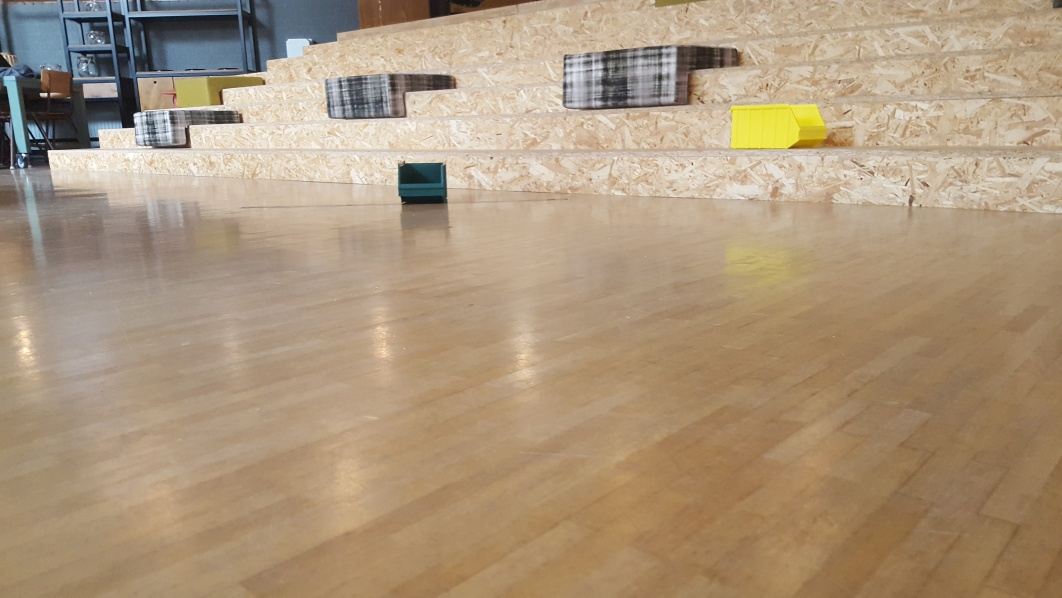tray: (730, 104, 829, 149), (396, 162, 449, 203)
